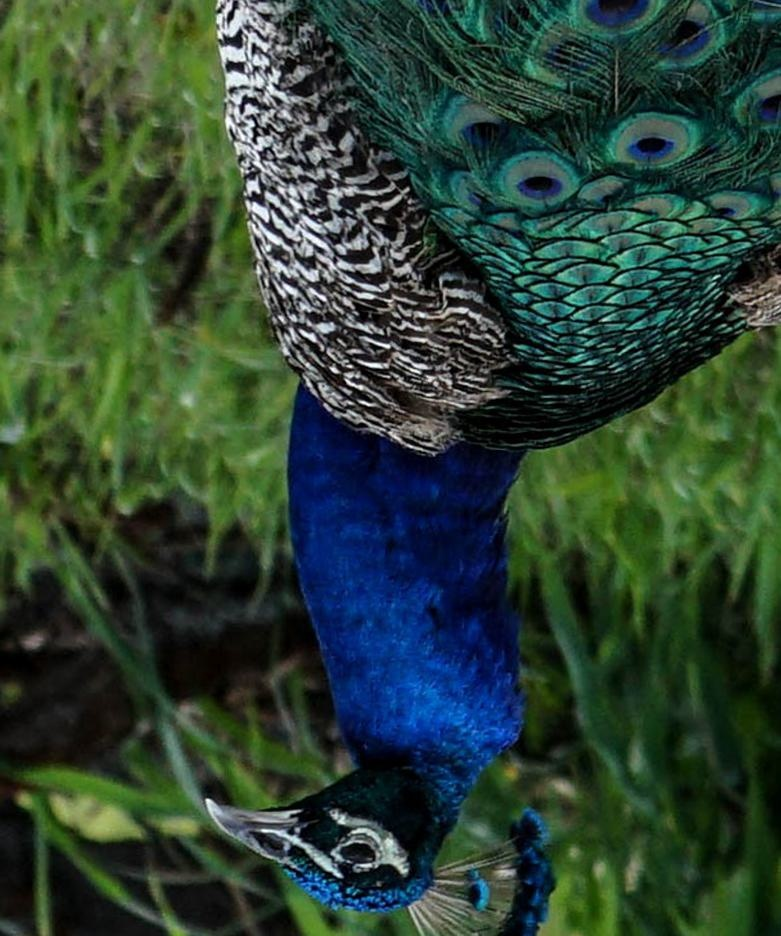peacock: (188, 1, 699, 921)
